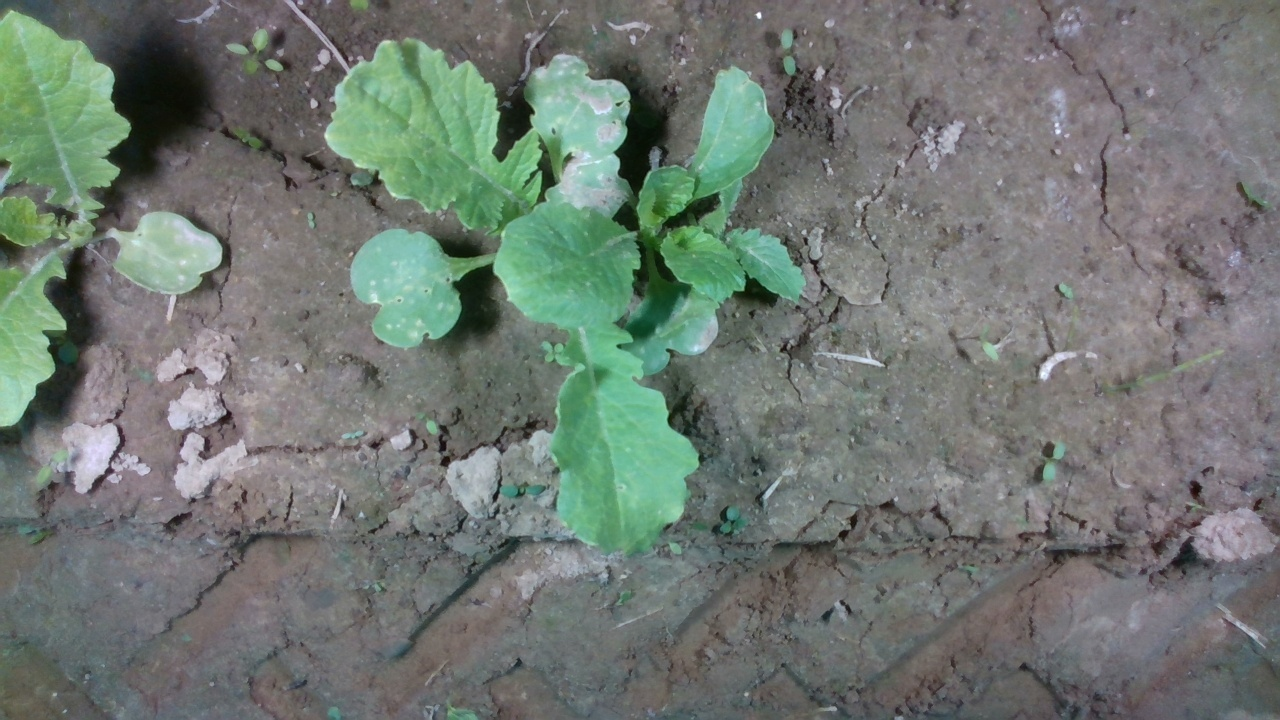weed: (1041, 440, 1068, 484), (228, 123, 264, 151), (779, 26, 797, 77), (1057, 280, 1075, 300), (340, 428, 365, 441), (306, 211, 316, 229)
